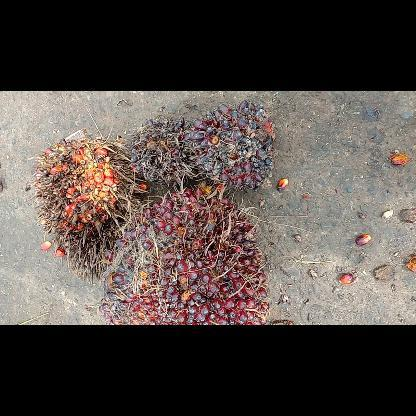TBS abnormal: (181, 98, 277, 192), (130, 114, 198, 188)
TBS masak: (93, 182, 274, 324)
Terlalu masak: (30, 127, 148, 283)
